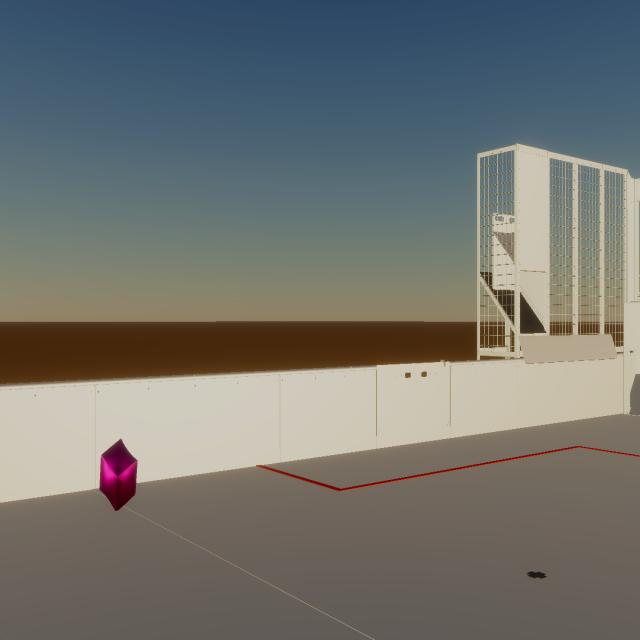frc_cube: (99, 438, 138, 511)
